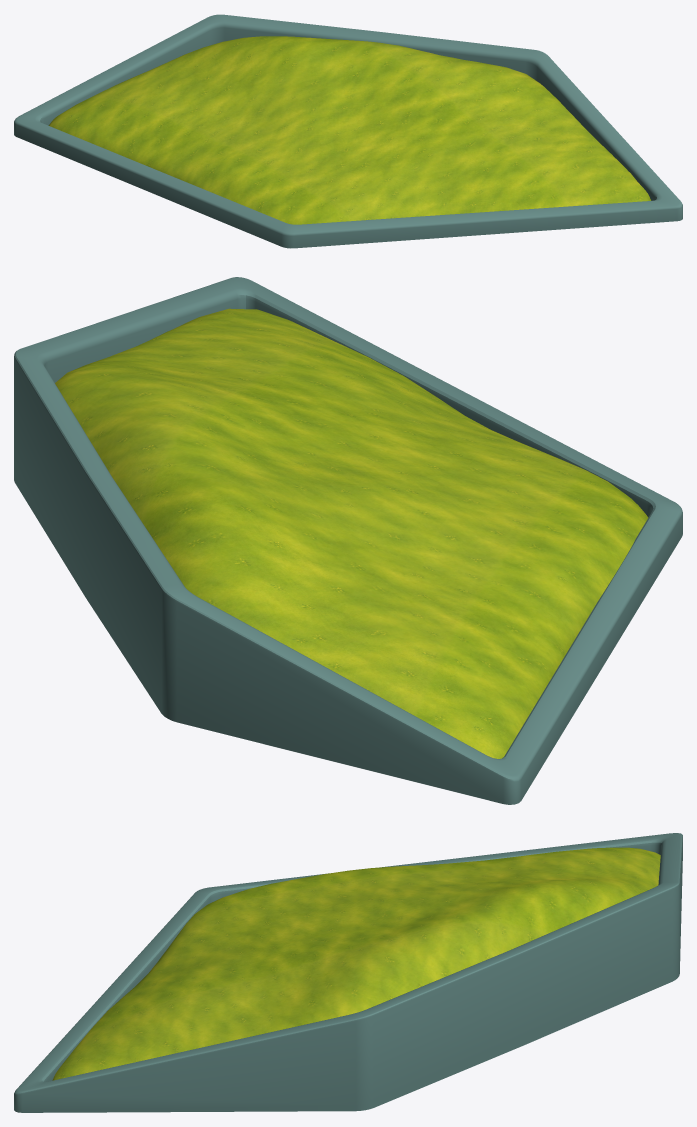
File: Garden.fbx
The picture shows the model from 3 angles, top to bottom: view 1: azimuth 30°, elevation 25°; view 2: azimuth 150°, elevation 25°; view 3: azimuth 270°, elevation 25°; orthographic projection. The views are drawn at different scales.
Visible parts, largest first — view 1: Garden_Grass.001, Garden_Main.001; view 2: Garden_Grass.001, Garden_Main.001; view 3: Garden_Main.001, Garden_Grass.001.
Boxes of the visible parts, x1=… form: Garden_Grass.001: x1=48, y1=36, x2=651, y2=224; Garden_Main.001: x1=14, y1=14, x2=682, y2=248; Garden_Grass.001: x1=55, y1=308, x2=648, y2=758; Garden_Main.001: x1=14, y1=277, x2=682, y2=804; Garden_Main.001: x1=14, y1=833, x2=682, y2=1112; Garden_Grass.001: x1=52, y1=847, x2=660, y2=1080.
Size of the model in its own units: 5.33 by 1.04 by 5.71.
